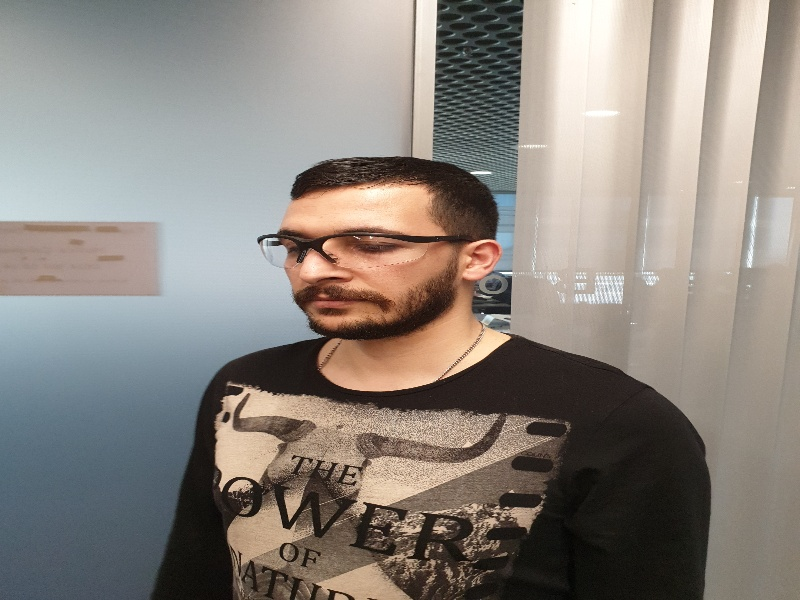Gozluk: (257, 230, 447, 274)
